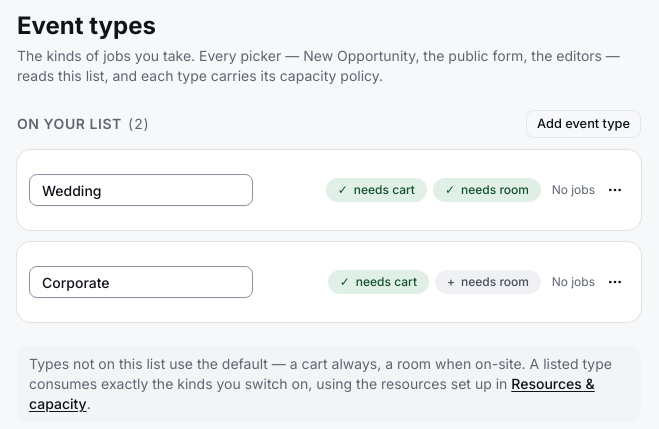
EventTypesClient › archives from the row menu via the whole-array save, keeps the row listed, and flags it Archived
Click the button named "Wedding — actions" at x=615, y=190, box [601,176,629,204]
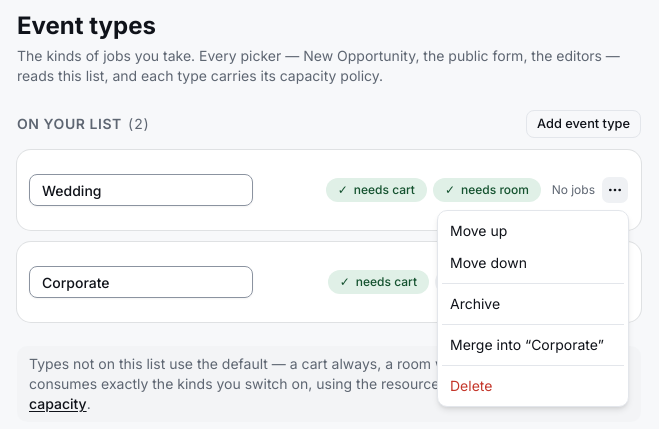
Click the menu item "Archive" at x=475, y=304, box [450,295,500,312]
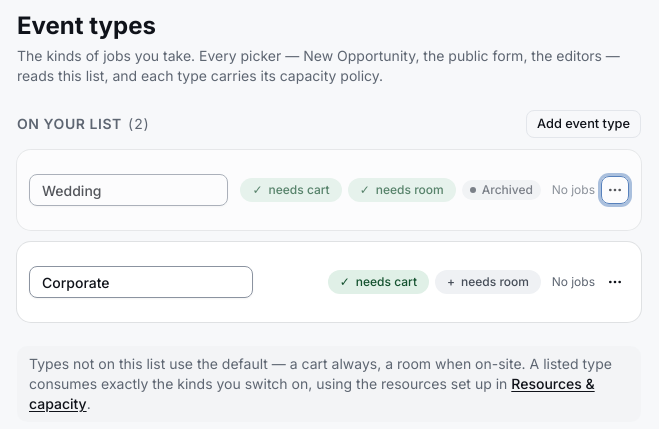
Expected: the field showing "Wedding" is shown, [29,174,228,206]
Expected: the text "Archived" is shown, [462,180,541,200]
